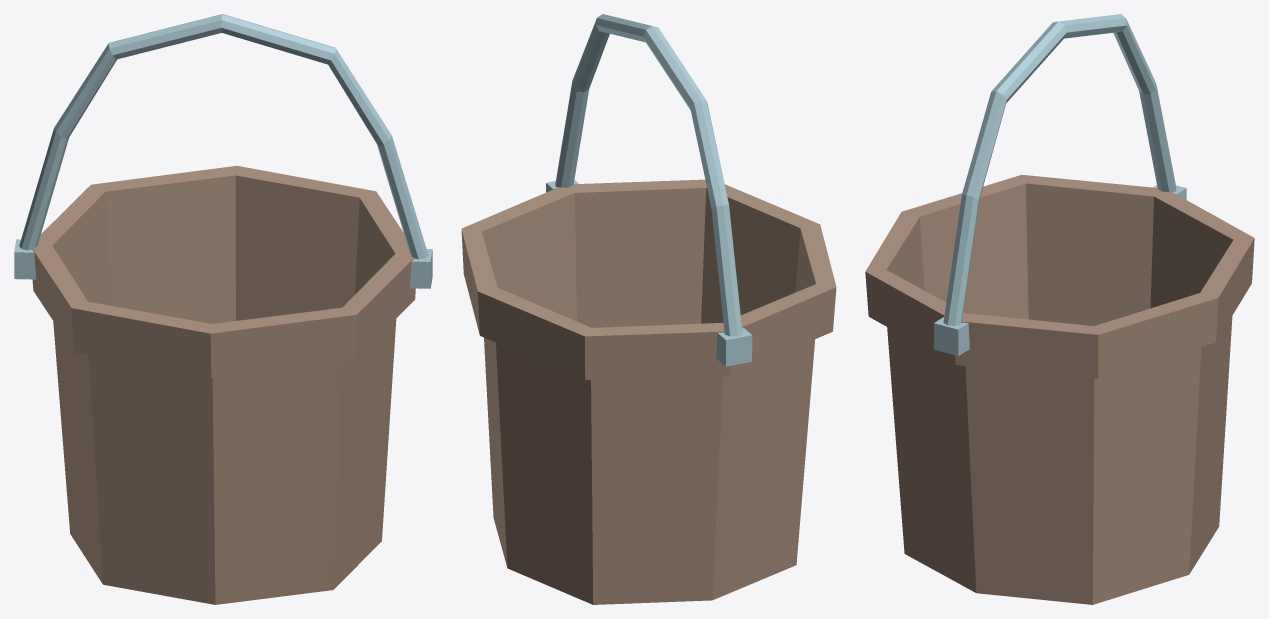
File: Playground_buckets.fbx
The picture shows the model from 3 angles, left to right: view 1: azimuth 30°, elevation 25°; view 2: azimuth 150°, elevation 25°; view 3: azimuth 270°, elevation 25°; orthographic projection.
Parts seen in each view (by area): view 1: Playground_buckets; view 2: Playground_buckets; view 3: Playground_buckets.
Part boxes in pixels (x1,y1,x2,y2): Playground_buckets: [14, 14, 432, 604]; Playground_buckets: [461, 14, 836, 604]; Playground_buckets: [865, 14, 1254, 604].
Bounding box in the file's own units: 19.85 × 29.14 × 19.85.
